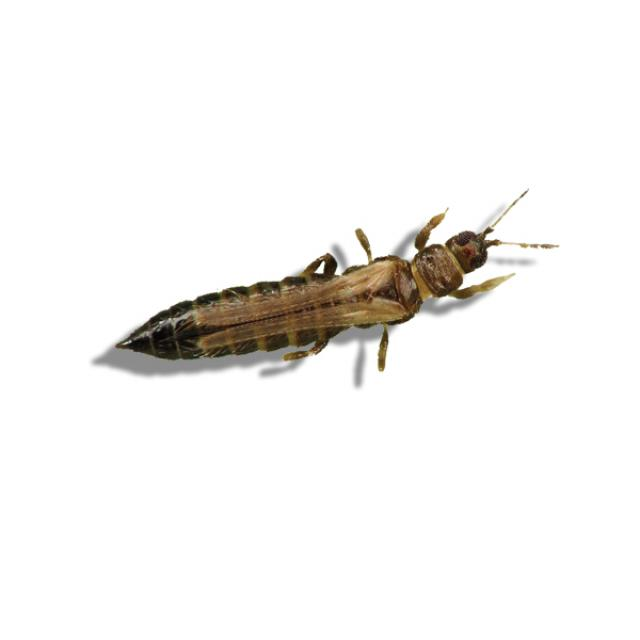Thrip-Adult-: (110, 183, 556, 383)
